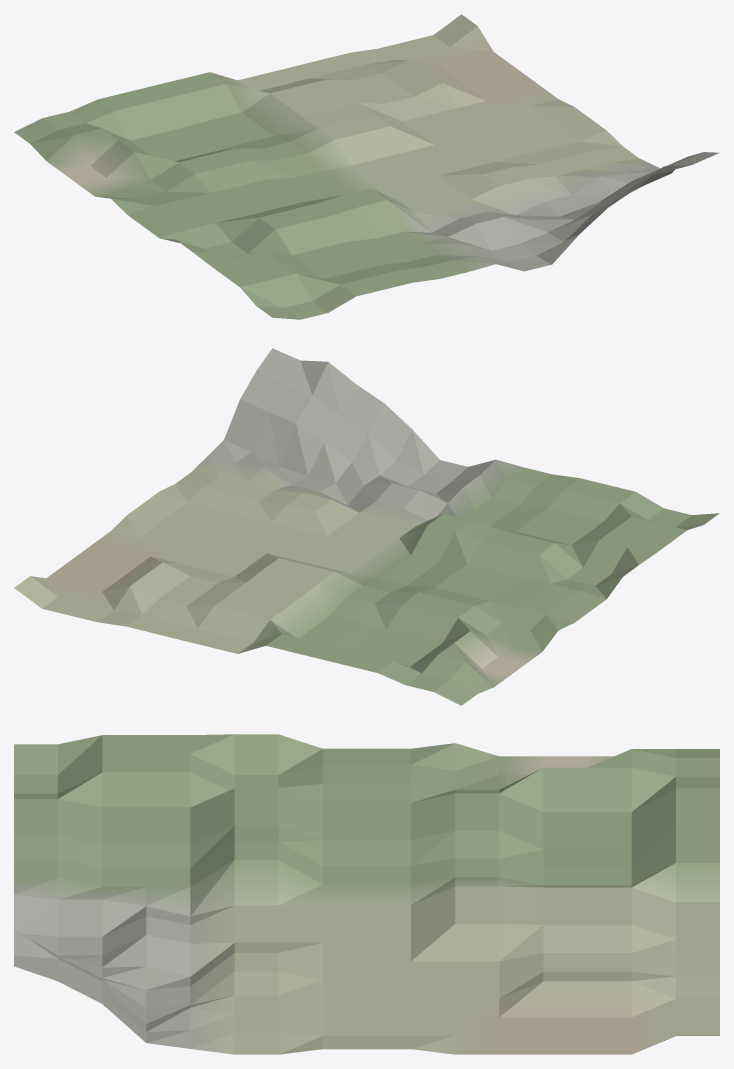
3 renders of one model, top to bottom at view 1: azimuth 30°, elevation 25°; view 2: azimuth 150°, elevation 25°; view 3: azimuth 270°, elevation 25°, orthographic. The views are drawn at different scales.
Bounding box in the file's own units: 32 × 5.18 × 32.
